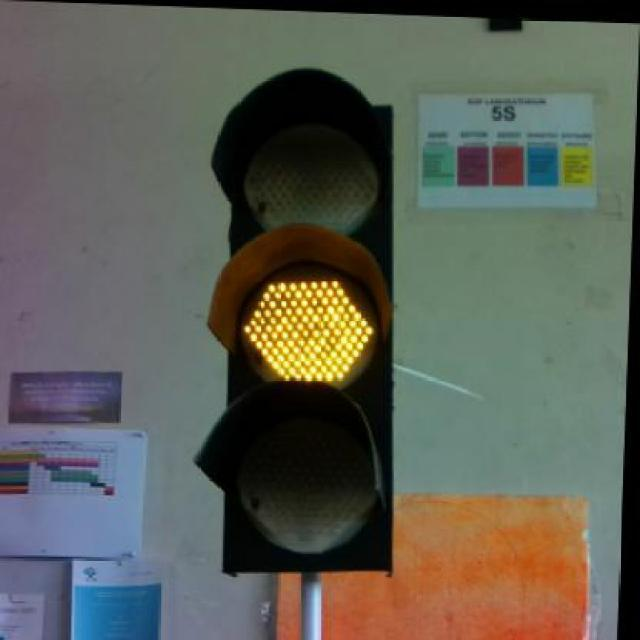yellow_light: (194, 69, 391, 574)
